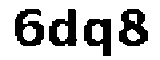6: (11, 3, 47, 48)
8: (118, 7, 151, 52)
d: (48, 4, 79, 54)
q: (83, 14, 114, 60)
